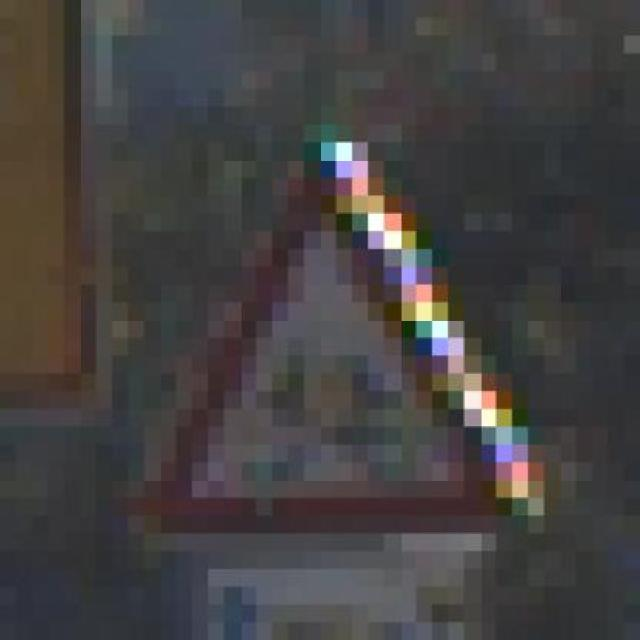CYCLE ROUTE AHEAD WARNING: (144, 106, 528, 569)
